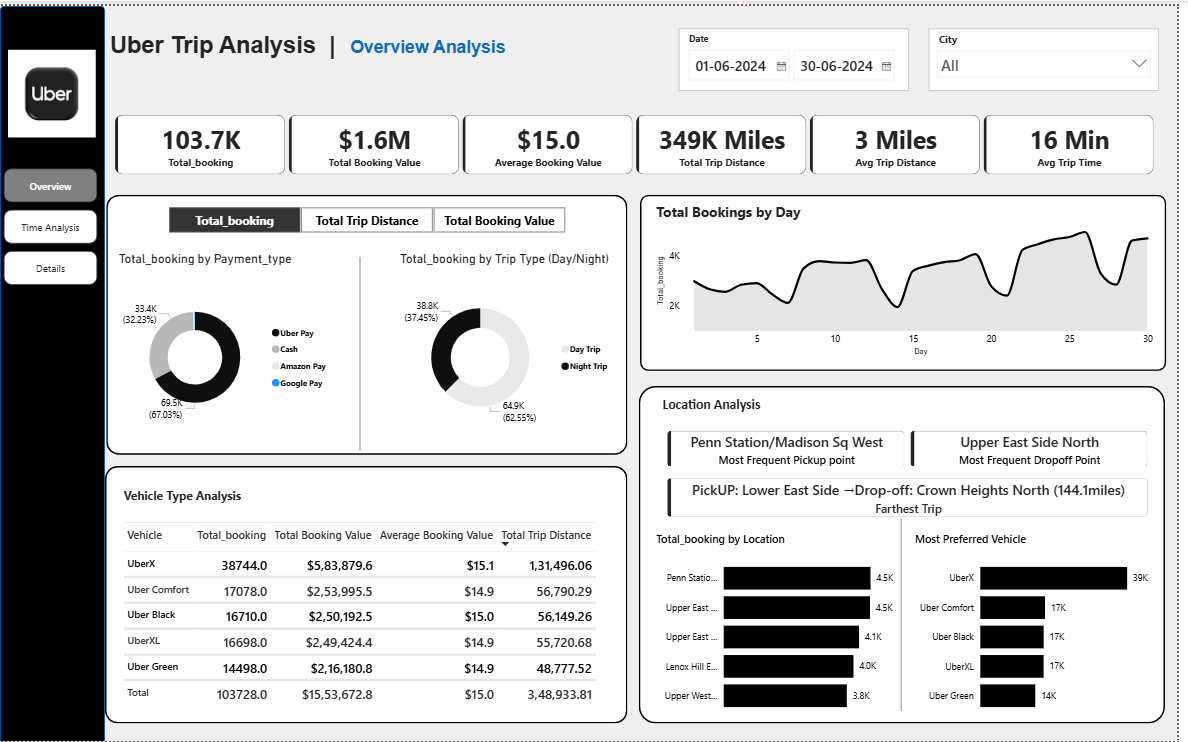

Layout of this report page (visuals, bound fields, positions):
{"tool":"powerbi","page":{"name":"Overview","canvas":[1600,1000],"ordinal":0},"visuals":[{"type":"shape","box":[0,0,142.5,1600],"z":0},{"type":"textbox","box":[144.4,30.6,601.2,57.7],"z":1000},{"type":"cardVisual","fields":{"Data":["Uber_Trip_Details.Total_booking","Uber_Trip_Details.Total Booking Amount","Uber_Trip_Details.Average Booking Value","Uber_Trip_Details.Total Trip Distance","Uber_Trip_Details.Avg Trip Distance","Uber_Trip_Details.Avg Trip Time"]},"box":[144.4,135.9,1440.2,105.3],"z":2000},{"type":"shape","box":[144.4,256.5,708.2,353.3],"z":3000},{"type":"slicer","fields":{"Values":["New_Parameter.New_Parameter"]},"box":[203.8,266.6,587.6,47.6],"z":4000},{"type":"donutChart","fields":{"Y":["Uber_Trip_Details.Total_booking"],"Category":["Uber_Trip_Details.Payment_type"]},"box":[156.3,332.9,300.6,270],"z":5000},{"type":"donutChart","fields":{"Y":["Uber_Trip_Details.Total_booking"],"Category":["Uber_Trip_Details.Trip Type (Day/Night)"]},"box":[538.4,332.9,300.6,270],"z":6000},{"type":"shape","box":[142.7,625,709.9,349.9],"z":7000},{"type":"pivotTable","fields":{"Rows":["Uber_Trip_Details.Vehicle"],"Values":["Uber_Trip_Details.Total_booking","Uber_Trip_Details.Total Booking Value","Uber_Trip_Details.Average Booking Value","Uber_Trip_Details.Total Trip Distance Measure"]},"box":[163,696.3,676,261.6],"z":8000},{"type":"textbox","box":[163,648.8,200.4,47.6],"z":9000},{"type":"shape","box":[869.6,256.5,715,239.5],"z":10000},{"type":"areaChart","title":"Total Bookings by Day","fields":{"Category":["Calendar_Table.Date.Variation.Date Hierarchy.Day"],"Y":["Uber_Trip_Details.Total_booking"]},"box":[886.6,266.6,687.8,214],"z":11000},{"type":"shape","box":[867.9,516.3,715,458.6],"z":12000},{"type":"cardVisual","fields":{"Data":["Uber_Trip_Details.Most Frequent Pickup point","Uber_Trip_Details.Most Frequent Dropoff Point"]},"box":[890,560.5,687.8,83.2],"z":13000},{"type":"cardVisual","fields":{"Data":["Uber_Trip_Details.Farthest Trip"]},"box":[890,625,687.8,86.6],"z":14000},{"type":"clusteredBarChart","fields":{"Category":["Location_Table.Location"],"Y":["Uber_Trip_Details.Total_booking"]},"box":[886.6,713.3,336.3,261.6],"z":15000},{"type":"clusteredBarChart","title":"Most Preferred Vehicle","fields":{"Category":["Uber_Trip_Details.Vehicle"],"Y":["CountNonNull(Uber_Trip_Details.PULocationID)"]},"box":[1238.1,713.3,336.3,261.6],"z":16000},{"type":"shape","box":[478.9,341.4,20.4,261.6],"z":17000},{"type":"shape","box":[1214.3,696.3,20.4,261.6],"z":18000},{"type":"textbox","box":[895,524.8,163,35.7],"z":19000},{"type":"slicer","fields":{"Values":["Calendar_Table.Date"]},"box":[922.2,30.6,312.5,84.9],"z":20000},{"type":"slicer","fields":{"Values":["Location_Table.City"]},"box":[1261.9,30.6,312.5,84.9],"z":21000},{"type":"image","box":[8.5,59.4,124,118.9],"z":21001},{"type":"pageNavigator","box":[5.1,220.8,127.4,159.6],"z":21002}]}

Visuals, with their boxes on the page's 1600x1000 design canvas (x1, y1, x2, y2). These are canvas units, not pixel positions in the 1188x742 screenshot, which may show the page scaled, cropped or inside an application window:
shape: pyautogui.locateOnScreen(0, 0, 142, 1600)
textbox: pyautogui.locateOnScreen(144, 31, 746, 88)
cardVisual - Uber_Trip_Details.Total_booking x Uber_Trip_Details.Total Booking Amount: pyautogui.locateOnScreen(144, 136, 1585, 241)
shape: pyautogui.locateOnScreen(144, 256, 853, 610)
slicer - New_Parameter.New_Parameter: pyautogui.locateOnScreen(204, 267, 791, 314)
donutChart - Uber_Trip_Details.Total_booking x Uber_Trip_Details.Payment_type: pyautogui.locateOnScreen(156, 333, 457, 603)
donutChart - Uber_Trip_Details.Total_booking x Uber_Trip_Details.Trip Type (Day/Night): pyautogui.locateOnScreen(538, 333, 839, 603)
shape: pyautogui.locateOnScreen(143, 625, 853, 975)
pivotTable - Uber_Trip_Details.Vehicle x Uber_Trip_Details.Total_booking: pyautogui.locateOnScreen(163, 696, 839, 958)
textbox: pyautogui.locateOnScreen(163, 649, 363, 696)
shape: pyautogui.locateOnScreen(870, 256, 1585, 496)
"Total Bookings by Day" areaChart: pyautogui.locateOnScreen(887, 267, 1574, 481)
shape: pyautogui.locateOnScreen(868, 516, 1583, 975)
cardVisual - Uber_Trip_Details.Most Frequent Pickup point x Uber_Trip_Details.Most Frequent Dropoff Point: pyautogui.locateOnScreen(890, 560, 1578, 644)
cardVisual - Uber_Trip_Details.Farthest Trip: pyautogui.locateOnScreen(890, 625, 1578, 712)
clusteredBarChart - Location_Table.Location x Uber_Trip_Details.Total_booking: pyautogui.locateOnScreen(887, 713, 1223, 975)
"Most Preferred Vehicle" clusteredBarChart: pyautogui.locateOnScreen(1238, 713, 1574, 975)
shape: pyautogui.locateOnScreen(479, 341, 499, 603)
shape: pyautogui.locateOnScreen(1214, 696, 1235, 958)
textbox: pyautogui.locateOnScreen(895, 525, 1058, 560)
slicer - Calendar_Table.Date: pyautogui.locateOnScreen(922, 31, 1235, 116)
slicer - Location_Table.City: pyautogui.locateOnScreen(1262, 31, 1574, 116)
image: pyautogui.locateOnScreen(8, 59, 132, 178)
pageNavigator: pyautogui.locateOnScreen(5, 221, 132, 380)
